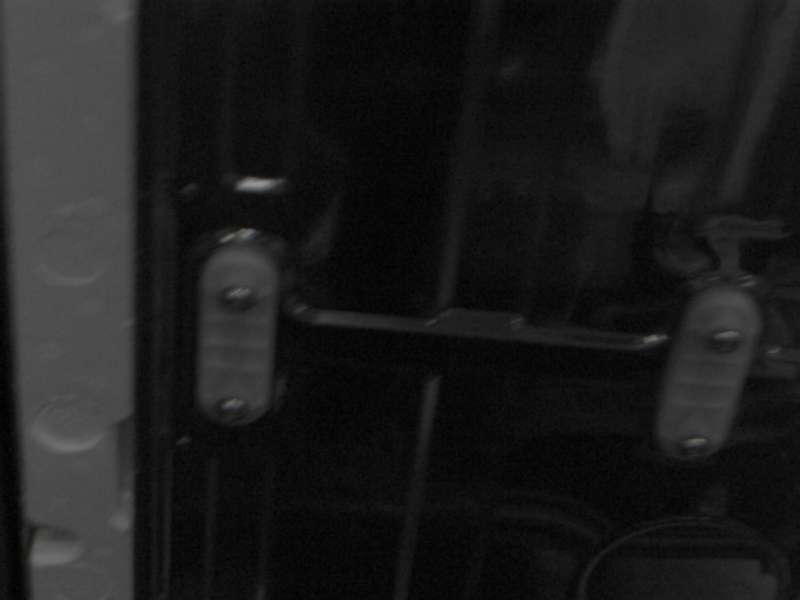screw: (219, 286, 259, 312), (216, 397, 250, 425), (708, 329, 744, 353), (680, 436, 710, 458)
